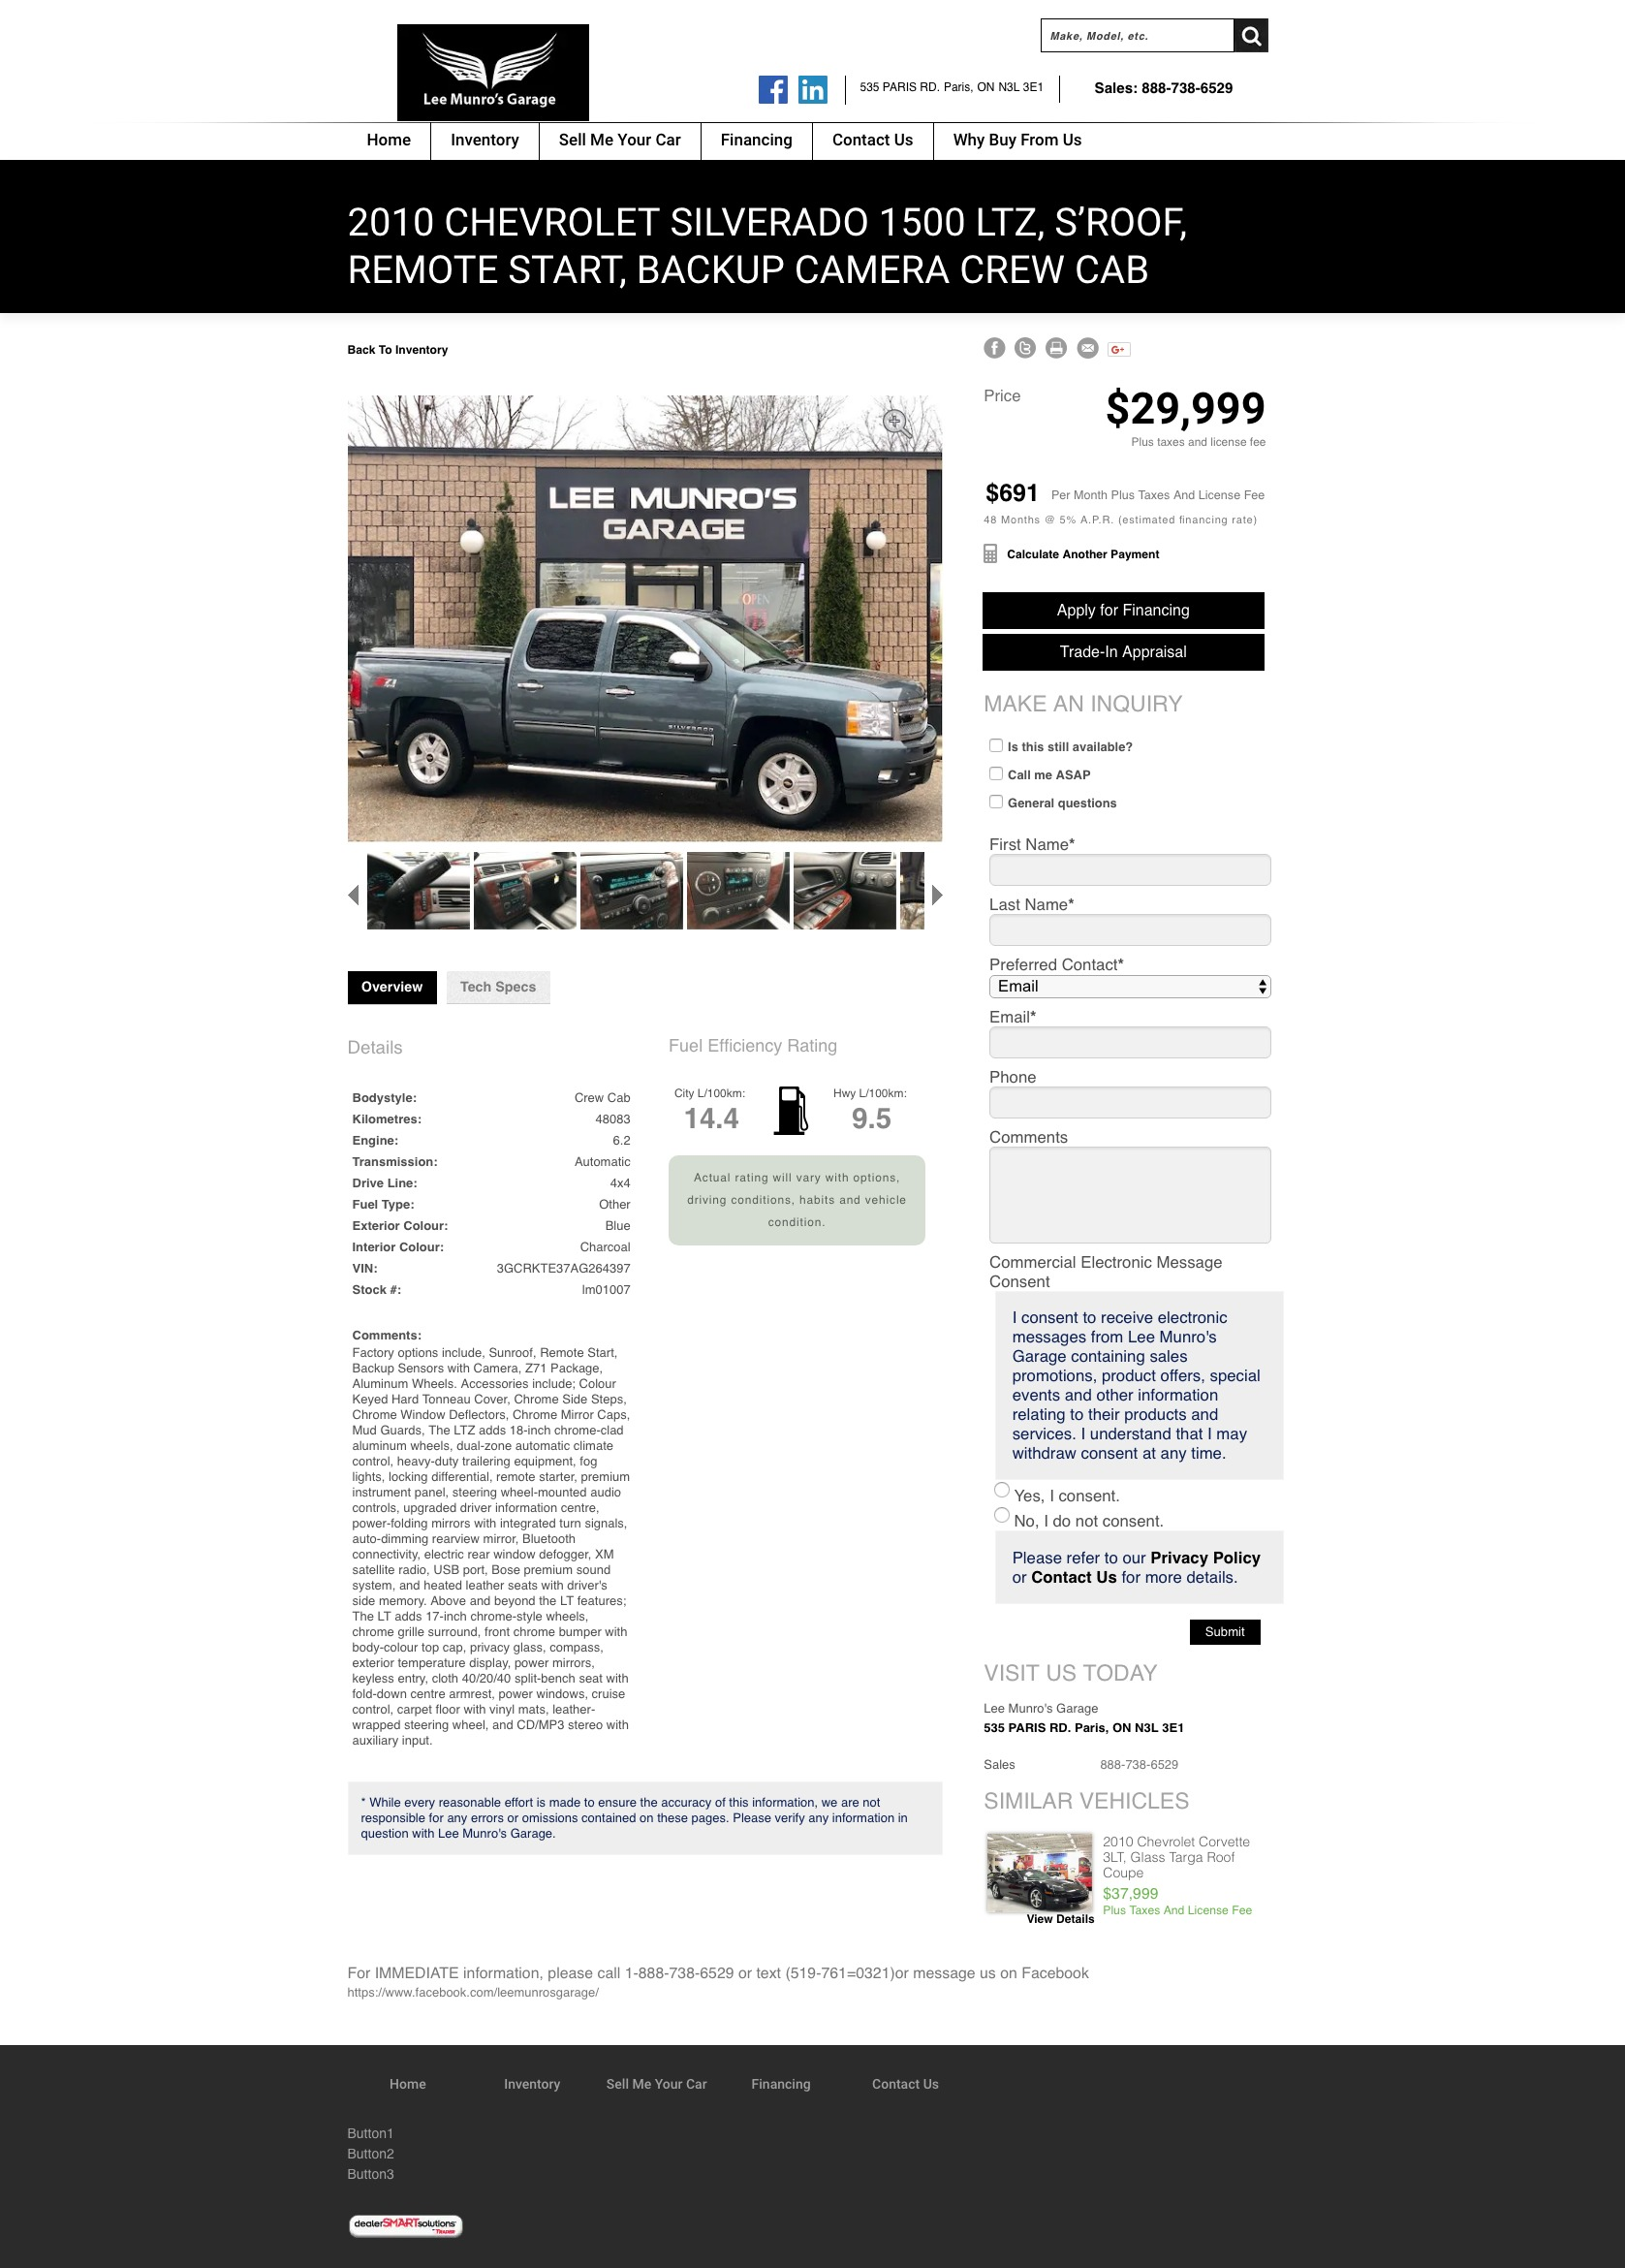car: (932, 884, 944, 905)
